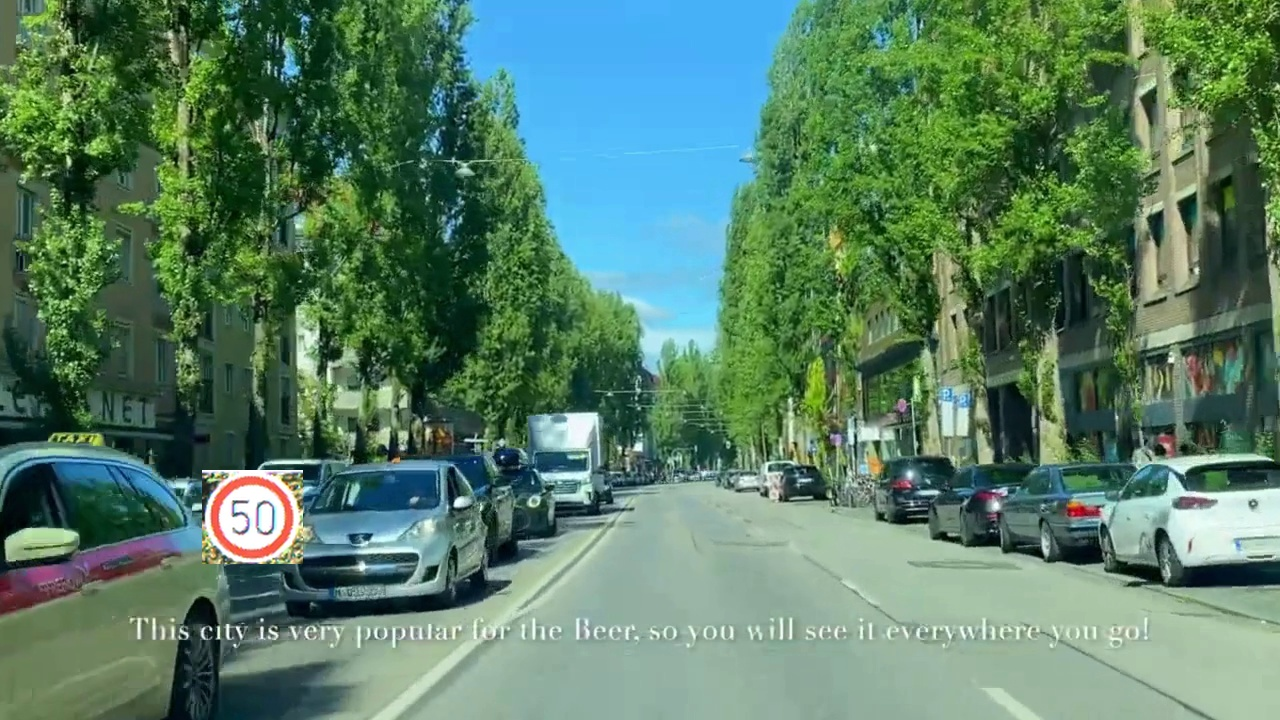Speed 50: (202, 470, 303, 564)
